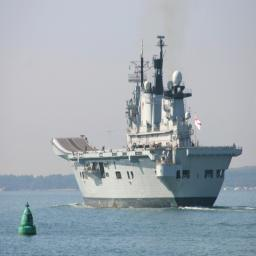Portanaves: (49, 31, 247, 213)
